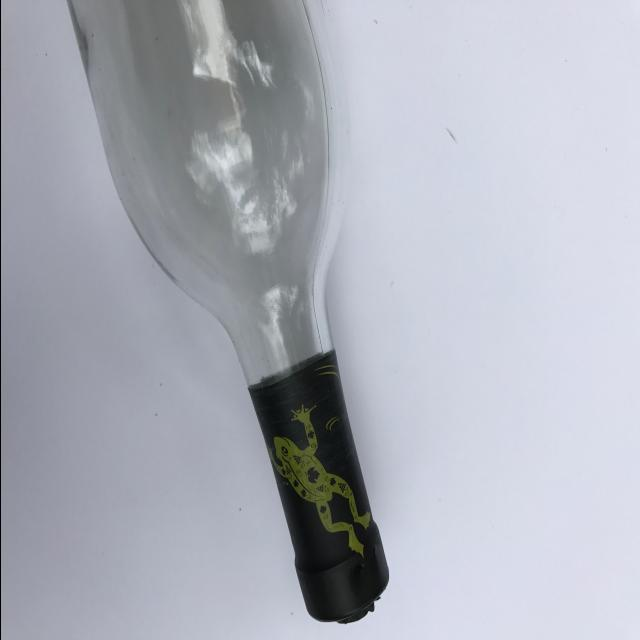glass: (59, 0, 389, 630)
